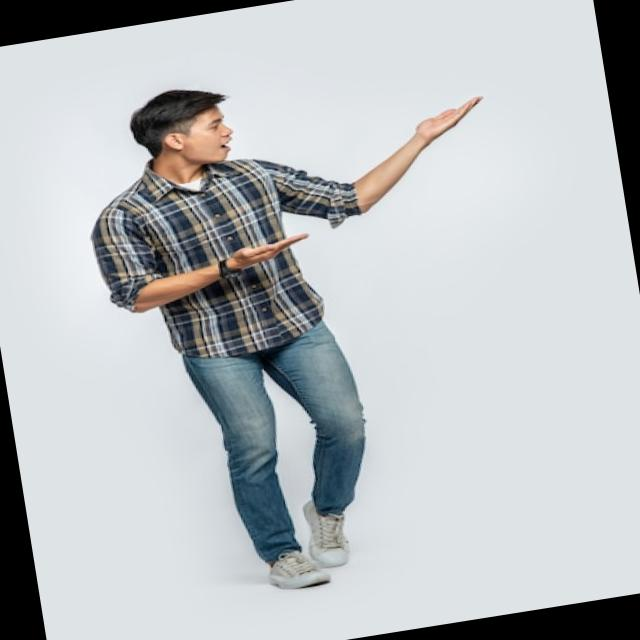Person: (72, 42, 556, 612)
